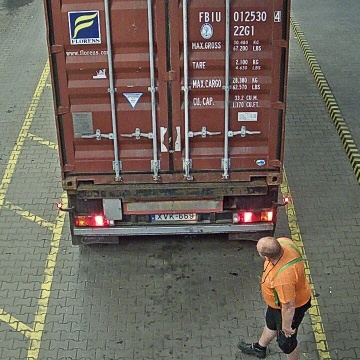serial_id: (199, 10, 280, 21)
